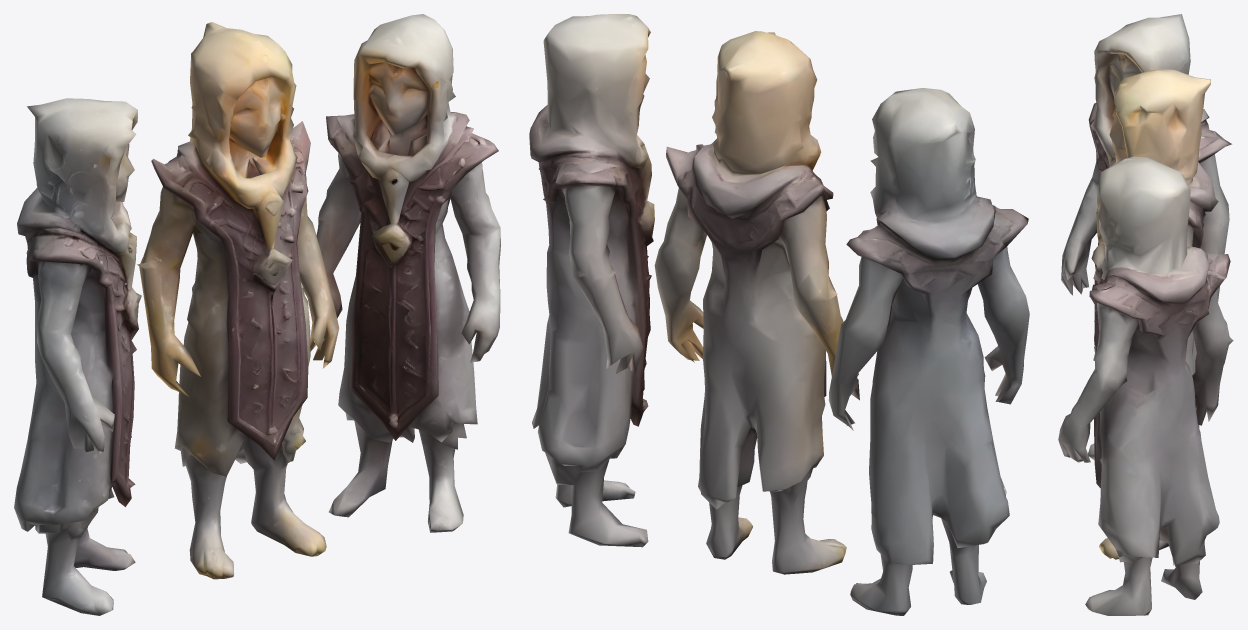
The model's file is foe_choir.glb.
3 renders of one model, left to right at view 1: azimuth 30°, elevation 25°; view 2: azimuth 150°, elevation 25°; view 3: azimuth 270°, elevation 25°, orthographic. The views are drawn at different scales.
Parts seen in each view (by area): view 1: tripo_node_bd011e71-3285-44d5-931c-1f5a397890c9; view 2: tripo_node_bd011e71-3285-44d5-931c-1f5a397890c9; view 3: tripo_node_bd011e71-3285-44d5-931c-1f5a397890c9.
Boxes of the visible parts, left/top/right/bottom form: tripo_node_bd011e71-3285-44d5-931c-1f5a397890c9: left=14, top=14, right=500, bottom=615; tripo_node_bd011e71-3285-44d5-931c-1f5a397890c9: left=529, top=14, right=1029, bottom=615; tripo_node_bd011e71-3285-44d5-931c-1f5a397890c9: left=1058, top=14, right=1233, bottom=615.
Size of the model in its own units: 0.9257 by 0.9807 by 0.337.
Materials: 1 (1 with a texture image).
